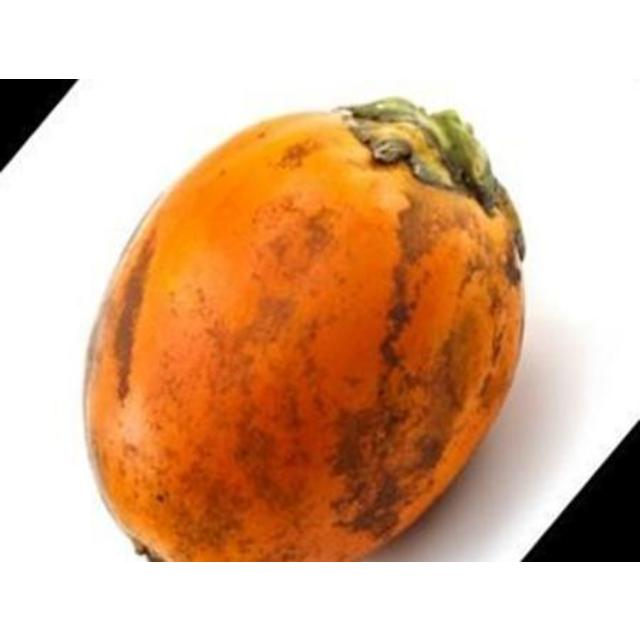good: (78, 96, 526, 560)
